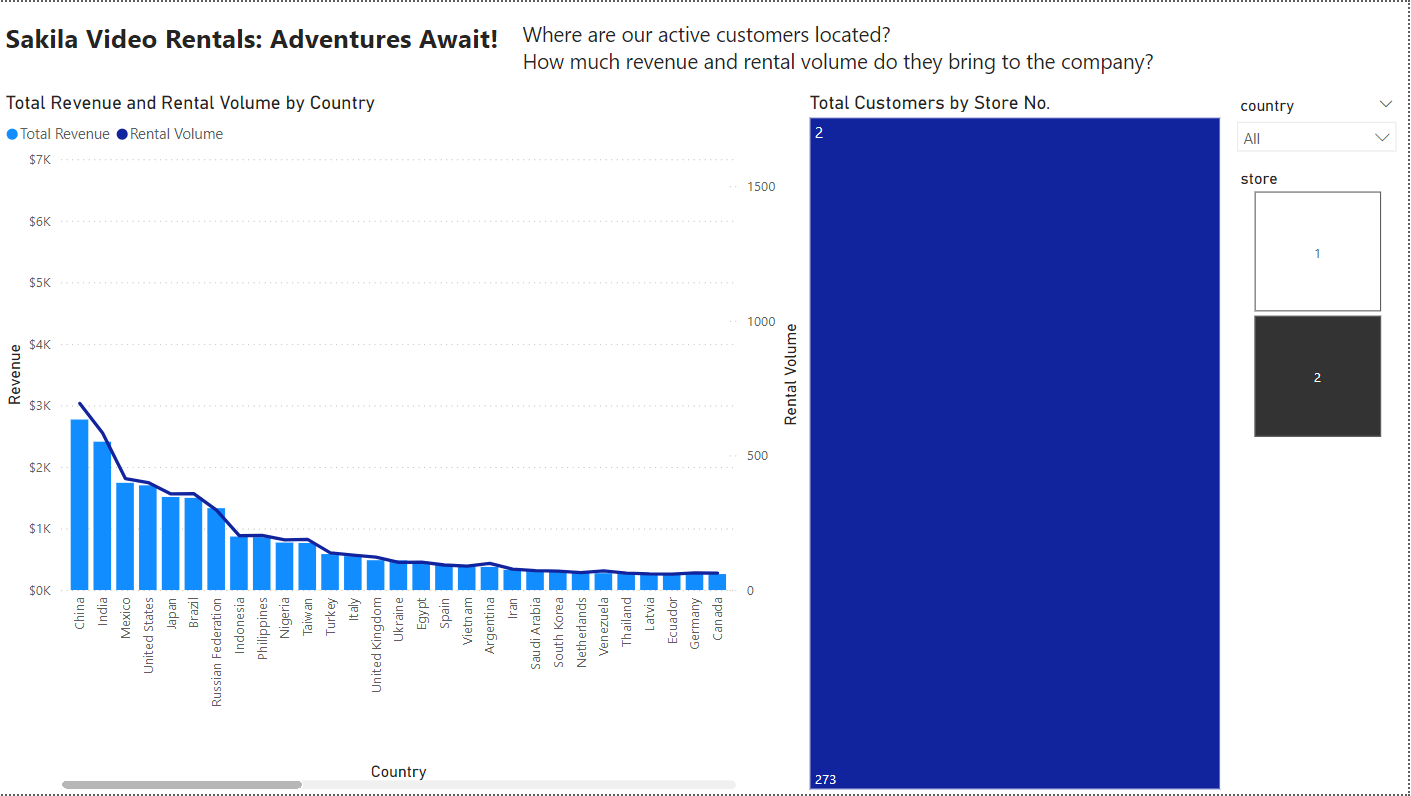

What the dashboard file says about the page in this screenshot:
{"tool":"powerbi","page":{"name":"Country Store Dashboard","canvas":[1280,720],"ordinal":1},"visuals":[{"type":"lineClusteredColumnComboChart","title":"Total Revenue and Popularity by Country","fields":{"Category":["country_store_rev_vol.country"],"Y":["Sum(country_store_rev_vol.total_revenue)"],"Y2":["Sum(country_store_rev_vol.rental_volume)"]},"box":[0,80.9,730.9,640],"z":0},{"type":"textbox","box":[470.2,11.2,615.7,69.7],"z":1000},{"type":"treemap","fields":{"Group":["country_store_active.store","country_store_rev_vol.country"],"Values":["Sum(country_store_active.total_customers)"]},"box":[730.9,80.9,383.6,640],"z":2000},{"type":"slicer","fields":{"Values":["country_store_rev_vol.country"]},"box":[1114.5,80.9,164.5,66.4],"z":3000},{"type":"slicer","fields":{"Values":["country_store_rev_vol.store"]},"box":[1114.5,147.3,164.5,254.5],"z":4000},{"type":"textbox","box":[0,11.2,471.4,52.2],"z":5000}]}

Visuals, with their boxes in screenshot pixels (x1, y1, x2, y2), scaled from the page's 1280x720 canvas onto the 1411x796 screenshot:
"Total Revenue and Popularity by Country" lineClusteredColumnComboChart: bbox=[0, 89, 806, 795]
textbox: bbox=[518, 12, 1197, 89]
treemap - country_store_active.store x country_store_rev_vol.country: bbox=[806, 89, 1229, 795]
slicer - country_store_rev_vol.country: bbox=[1229, 89, 1410, 163]
slicer - country_store_rev_vol.store: bbox=[1229, 163, 1410, 444]
textbox: bbox=[0, 12, 520, 70]
